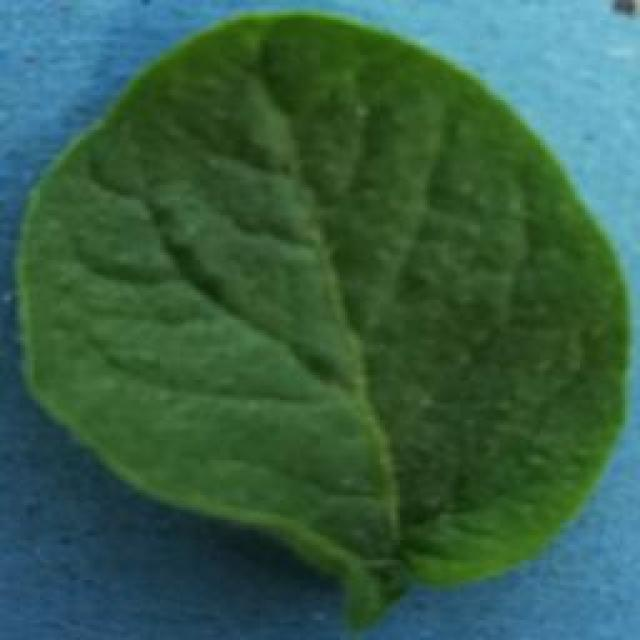Potato_Healthy: (15, 8, 623, 631)
